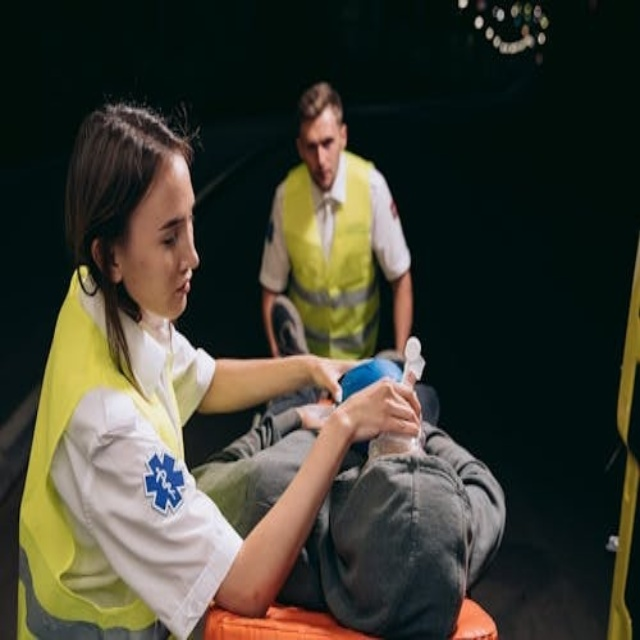Sin_gafas: (146, 198, 198, 252), (300, 131, 338, 154)
Sin_guantes: (337, 375, 423, 443), (301, 353, 365, 404)
Sin_mascara: (161, 271, 197, 308), (308, 165, 337, 186)
